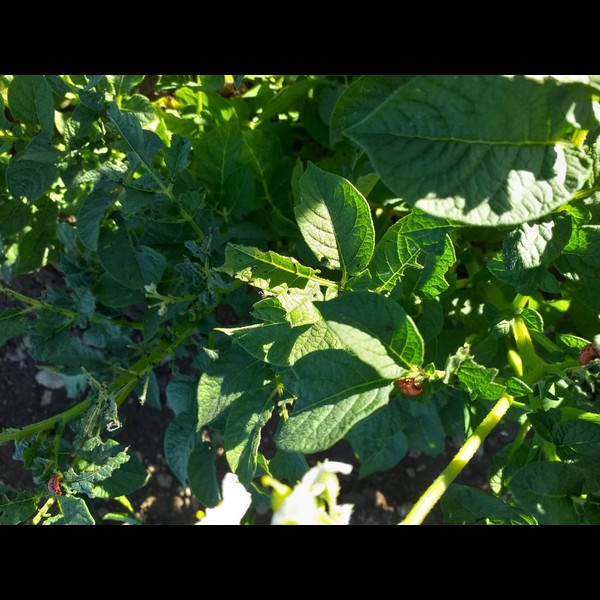hrosc: (394, 372, 425, 400), (575, 337, 599, 368), (43, 475, 64, 495)
